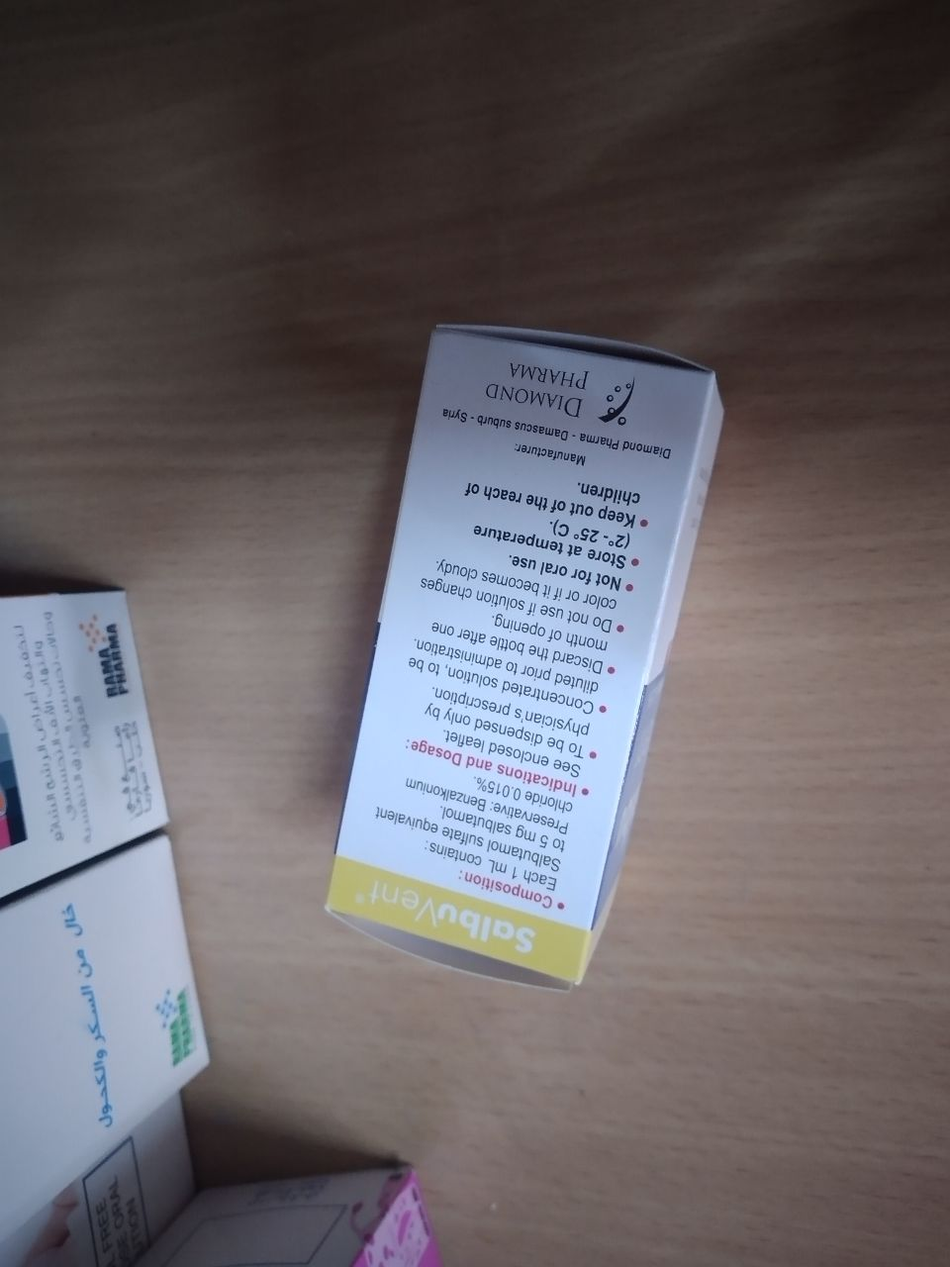Medicine: (320, 290, 729, 1013)
